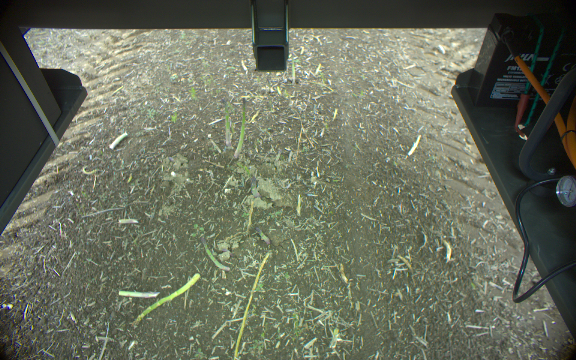aspa: (130, 272, 201, 324), (200, 237, 230, 273), (232, 97, 247, 158), (218, 96, 232, 150), (116, 289, 160, 298), (255, 224, 270, 245), (250, 174, 260, 199)
